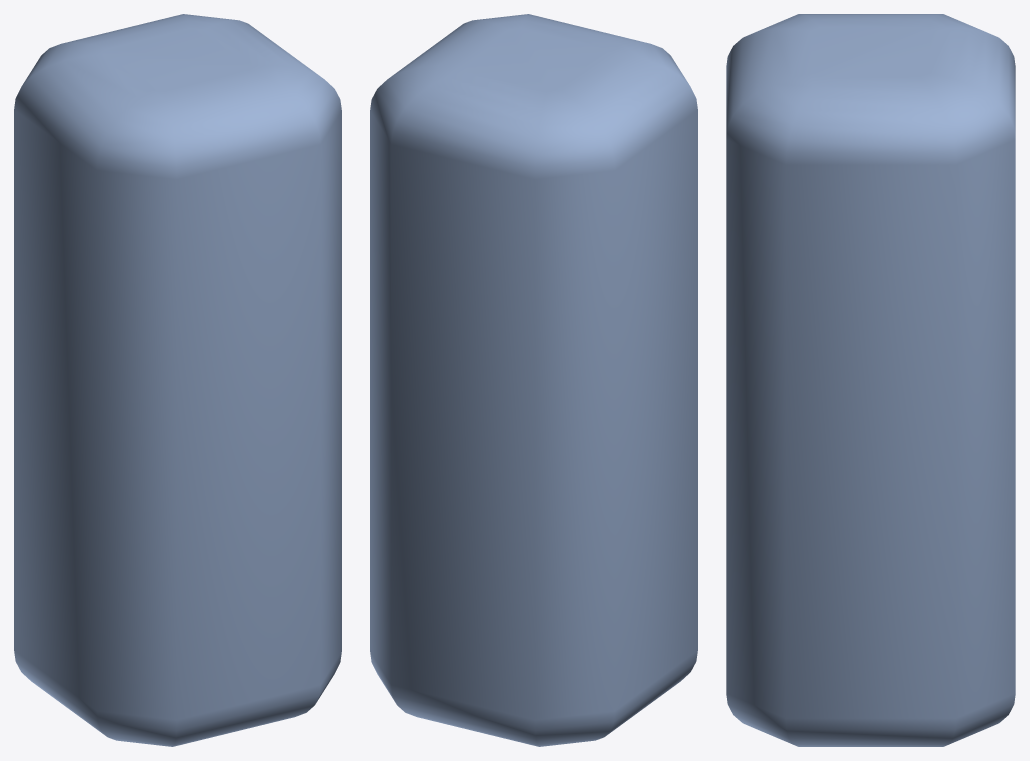
The picture shows the model from 3 angles, left to right: view 1: azimuth 30°, elevation 25°; view 2: azimuth 150°, elevation 25°; view 3: azimuth 270°, elevation 25°; orthographic projection. The views are drawn at different scales.
Visible parts, largest first — view 1: Cube; view 2: Cube; view 3: Cube.
Part boxes in pixels (left/top/right/bottom): Cube: left=14, top=14, right=341, bottom=746; Cube: left=370, top=14, right=697, bottom=746; Cube: left=726, top=14, right=1015, bottom=746.
Bounding box in the file's own units: 0.08 × 0.08 × 0.2.
